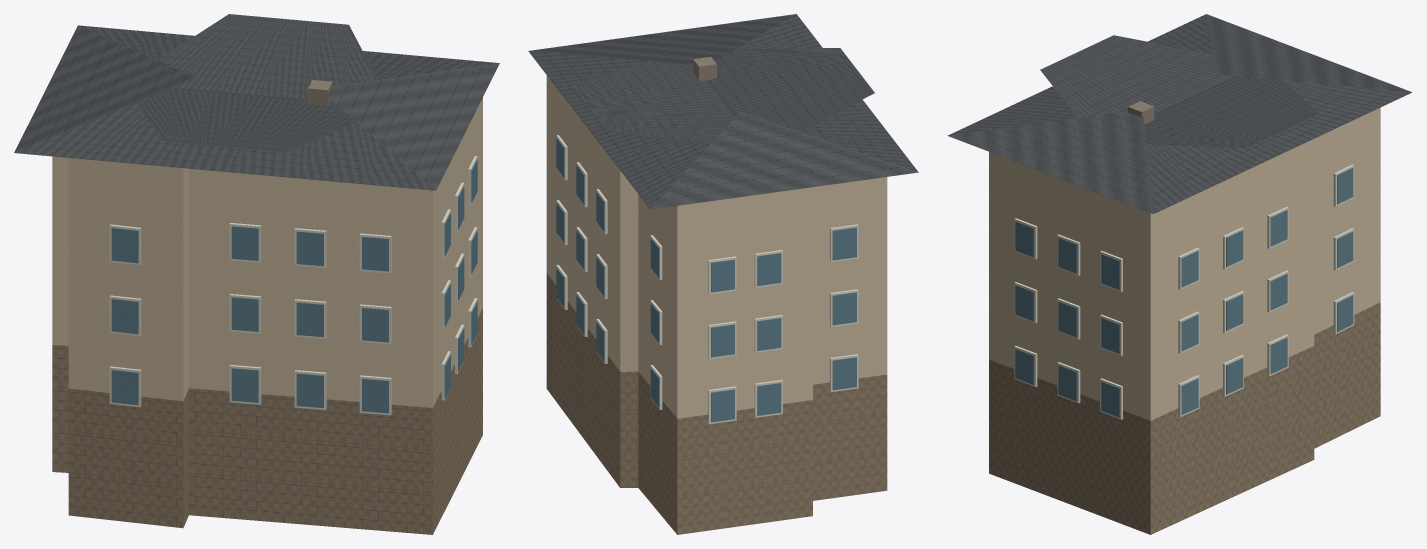
The model's file is core_0146.gltf.
3 views of the same model, side by side, from view 1: azimuth 30°, elevation 25°; view 2: azimuth 150°, elevation 25°; view 3: azimuth 270°, elevation 25° (orthographic). The views are drawn at different scales.
Visible parts, largest first — view 1: core_0146; view 2: core_0146; view 3: core_0146.
Boxes of the visible parts, x1,y1,x2,y2 form: core_0146: (14, 14, 499, 534); core_0146: (528, 14, 918, 534); core_0146: (947, 14, 1411, 534).
Bounding box in the file's own units: 19.19 × 15.85 × 18.85.
Materials: 6 (6 with a texture image).
